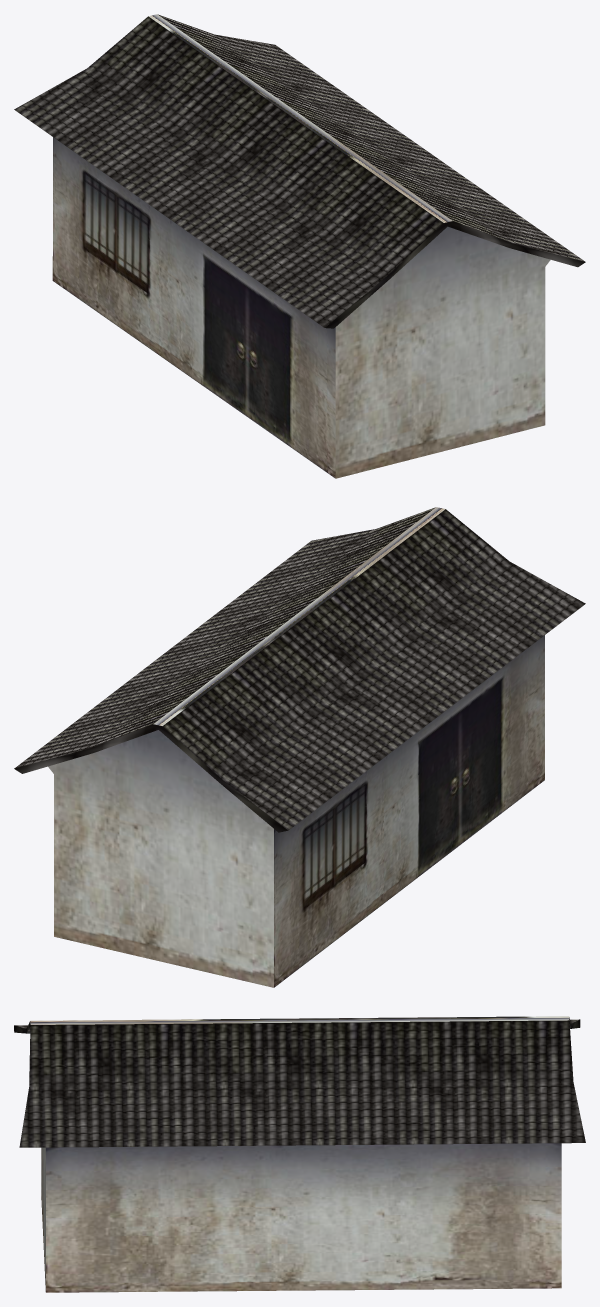
Rendered from ian1618.obj.
3 views of the same model, one above another, from view 1: azimuth 30°, elevation 25°; view 2: azimuth 150°, elevation 25°; view 3: azimuth 270°, elevation 25° (orthographic). The views are drawn at different scales.
Visible parts, largest first — view 1: ian1618; view 2: ian1618; view 3: ian1618.
Boxes of the visible parts, x1,y1,x2,y2 form: ian1618: (14, 14, 585, 478); ian1618: (14, 507, 585, 987); ian1618: (14, 1016, 585, 1292).
Size of the model in its own units: 121 by 99.21 by 232.
